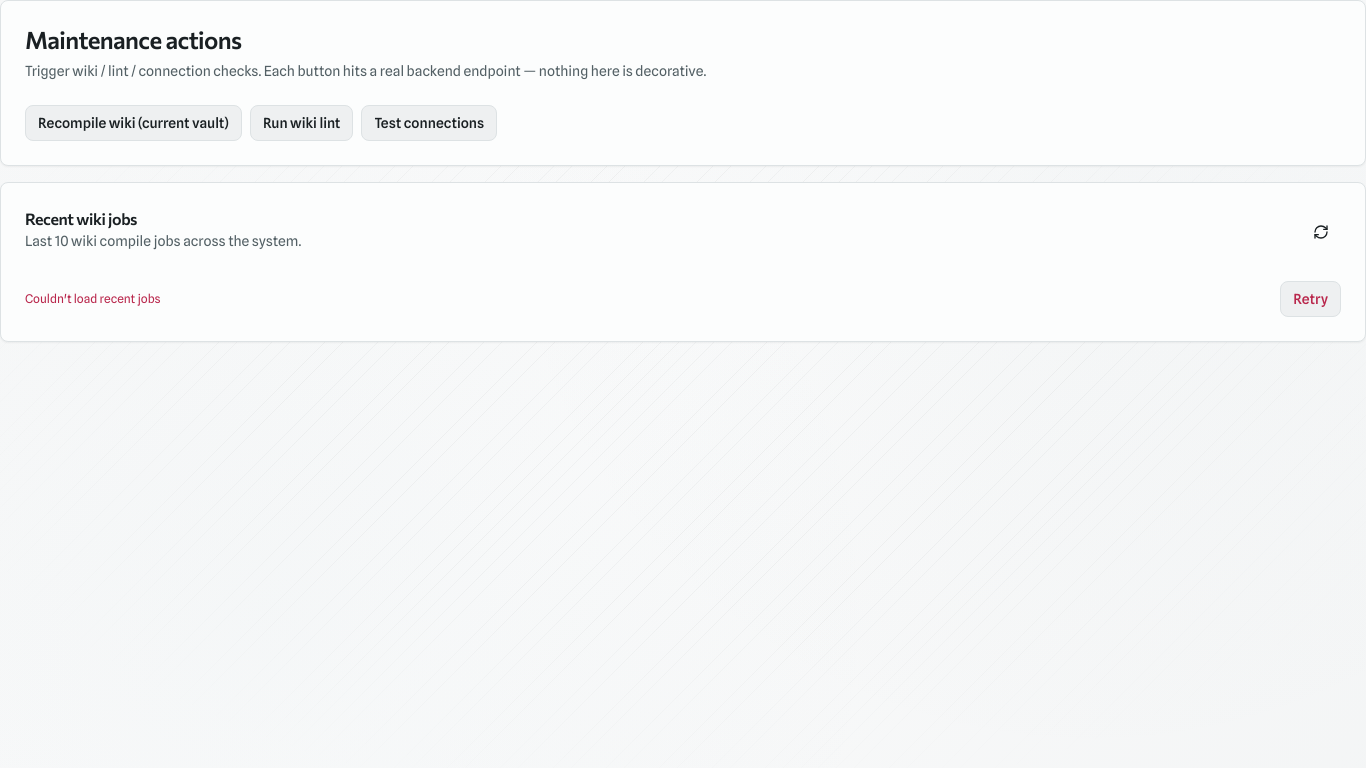
Test: MaintenanceSettings read outcomes and limit contract › distinguishes a failed initial read, retries successfully, and shows the rows
Expected: the message "Couldn't load recent jobs Retry" is shown, top-left (25, 281), bottom-right (1341, 317)
Click the button "Retry": (1311, 299) top-left (1280, 281), bottom-right (1341, 317)
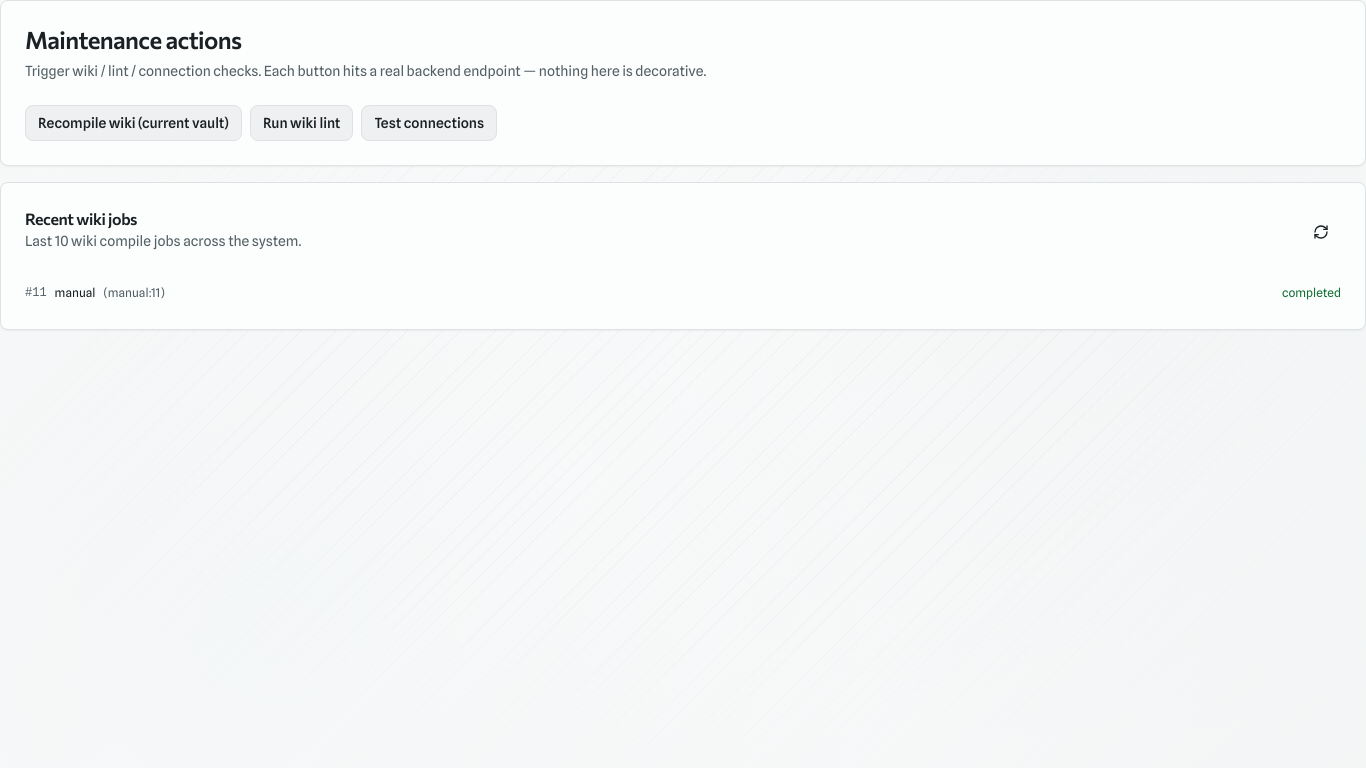
Expected: the text "#11" is shown, top-left (25, 285), bottom-right (47, 301)
